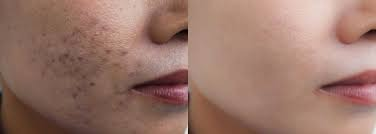Melasma: (99, 0, 116, 32)
